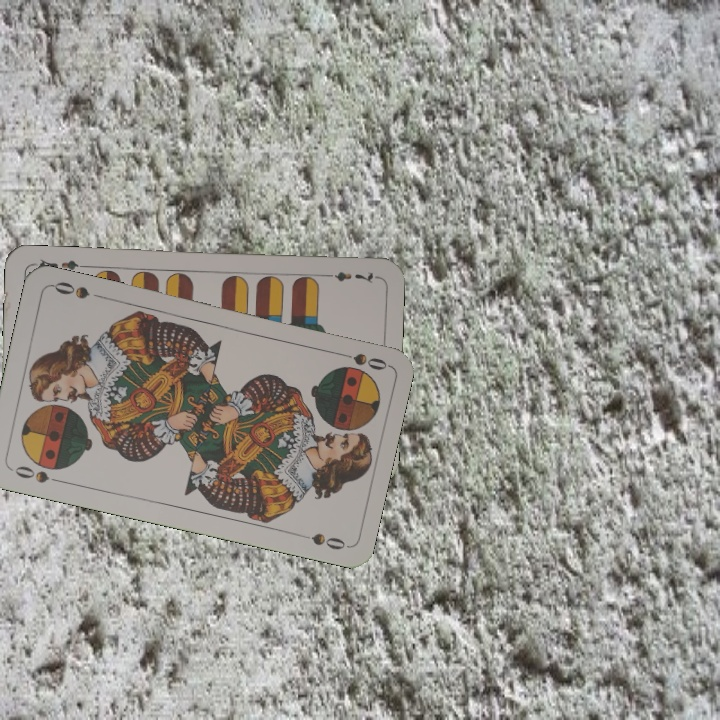E7: (319, 268, 378, 286)
SO: (331, 347, 389, 373), (7, 461, 65, 486)
